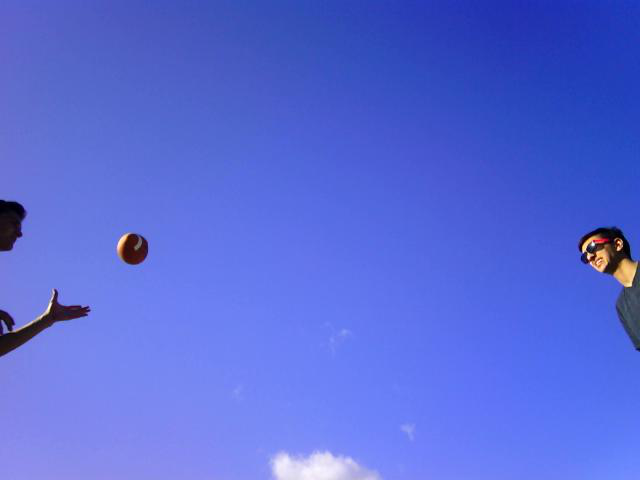football: (114, 226, 154, 270)
